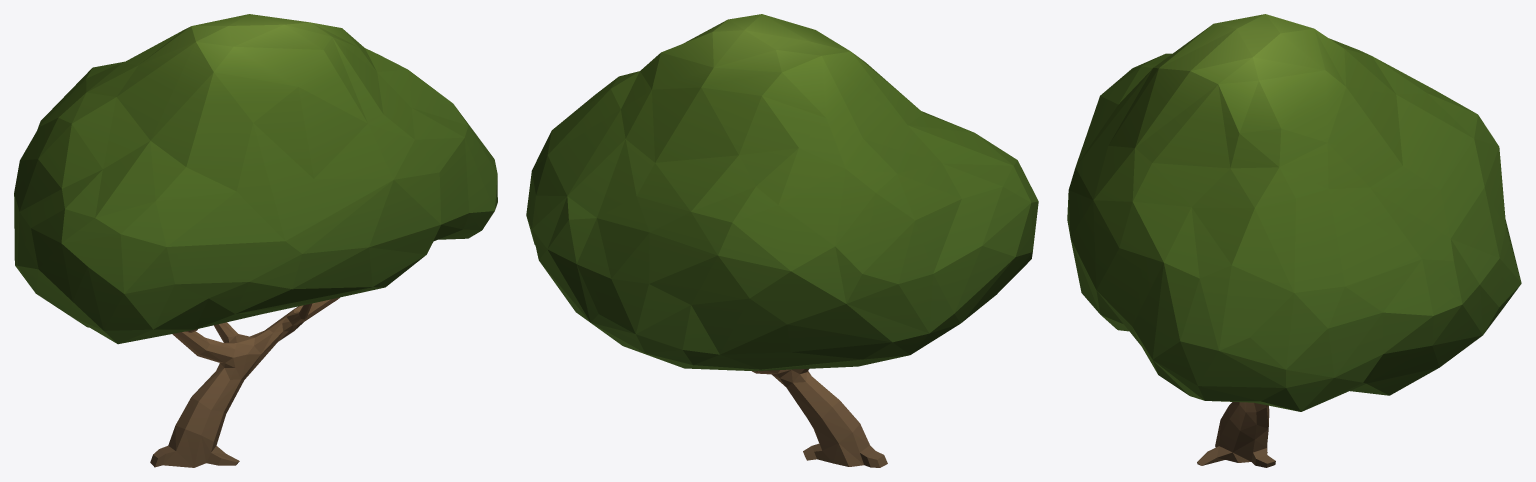
The model's file is Mesh_Nature_Tree_05.FBX.
The picture shows the model from 3 angles, left to right: view 1: azimuth 30°, elevation 25°; view 2: azimuth 150°, elevation 25°; view 3: azimuth 270°, elevation 25°; orthographic projection. The views are drawn at different scales.
Visible parts, largest first — view 1: Mesh_Nature_Tree_05; view 2: Mesh_Nature_Tree_05; view 3: Mesh_Nature_Tree_05.
Boxes of the visible parts, box(x1,y1,x2,y2) form: Mesh_Nature_Tree_05: box(14, 14, 497, 467); Mesh_Nature_Tree_05: box(526, 14, 1038, 467); Mesh_Nature_Tree_05: box(1067, 14, 1521, 467).
Size of what is drawn, in the model's own units: 650 by 509 by 552.
